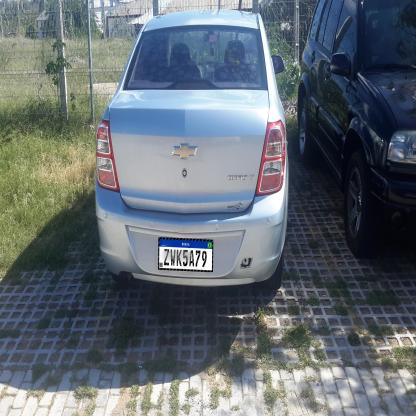PlacaM: (158, 237, 213, 272)
